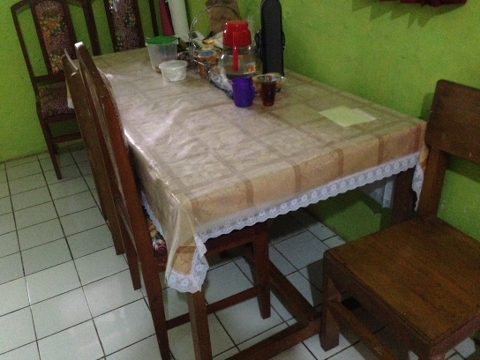meja: (61, 34, 429, 360)
tempat minum: (256, 75, 280, 106), (231, 78, 255, 107)
